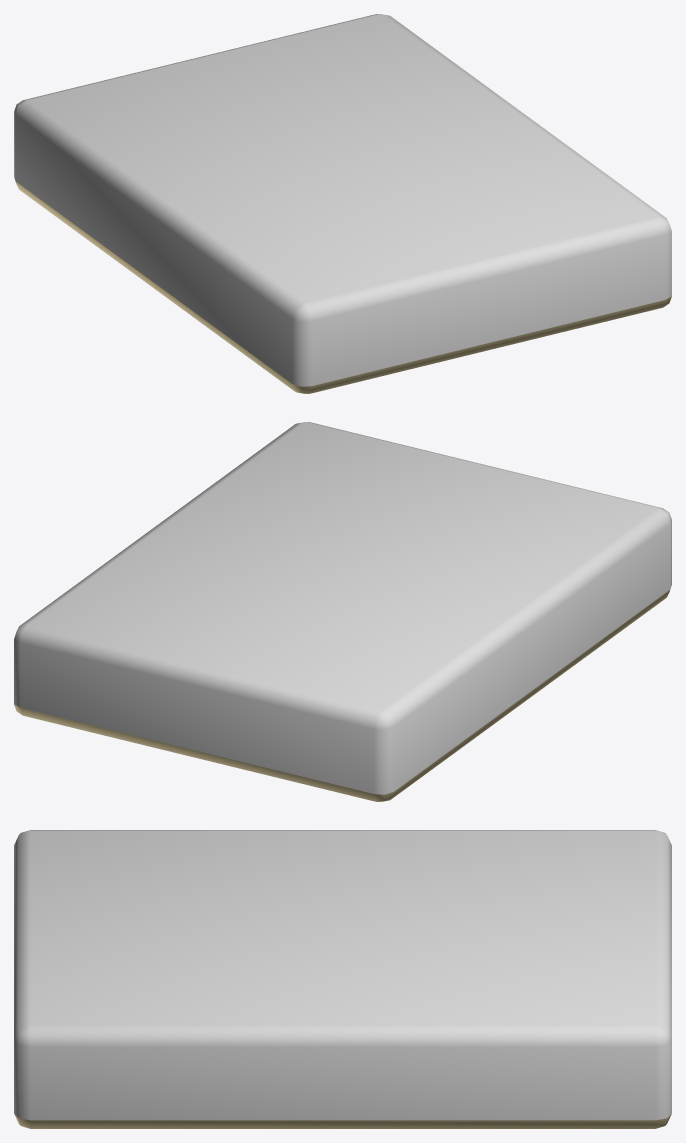
The picture shows the model from 3 angles, top to bottom: view 1: azimuth 30°, elevation 25°; view 2: azimuth 150°, elevation 25°; view 3: azimuth 270°, elevation 25°; orthographic projection. The views are drawn at different scales.
Parts seen in each view (by area): view 1: Cube.002, Cube.005; view 2: Cube.002, Cube.005; view 3: Cube.002, Cube.005.
Boxes of the visible parts, x1=… form: Cube.002: x1=14, y1=14, x2=671, y2=386; Cube.005: x1=16, y1=182, x2=671, y2=393; Cube.002: x1=14, y1=422, x2=671, y2=794; Cube.005: x1=14, y1=590, x2=669, y2=801; Cube.002: x1=14, y1=830, x2=671, y2=1120; Cube.005: x1=14, y1=1114, x2=671, y2=1128.
Bounding box in the file's own units: 300 × 69.11 × 400.
